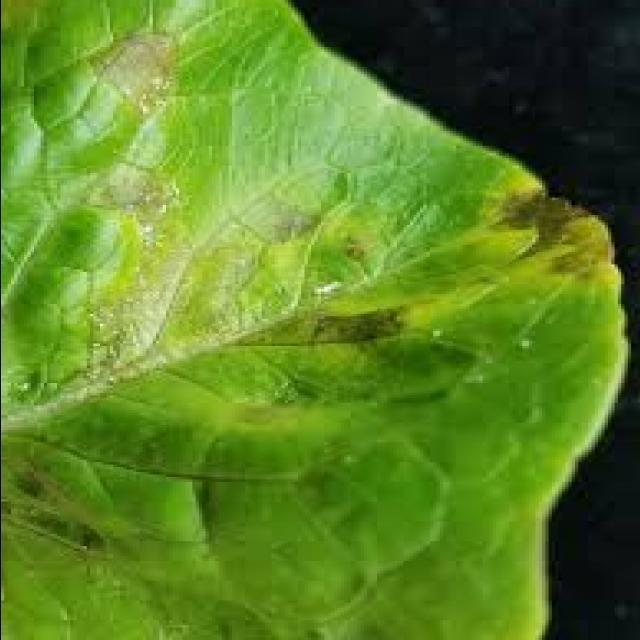Downy_Mildew: (245, 182, 610, 340), (63, 250, 350, 407), (105, 37, 202, 348)
